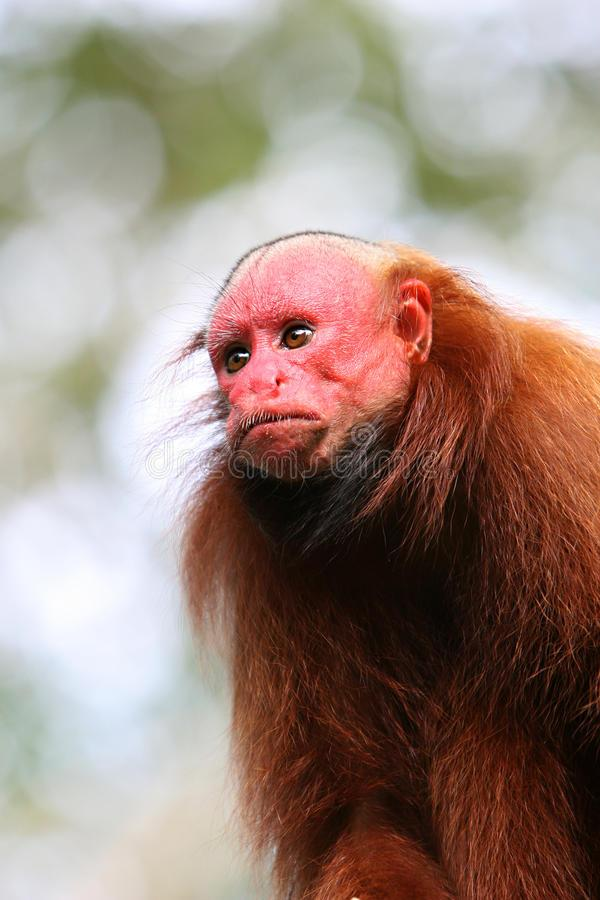monkey: (153, 232, 600, 900)
